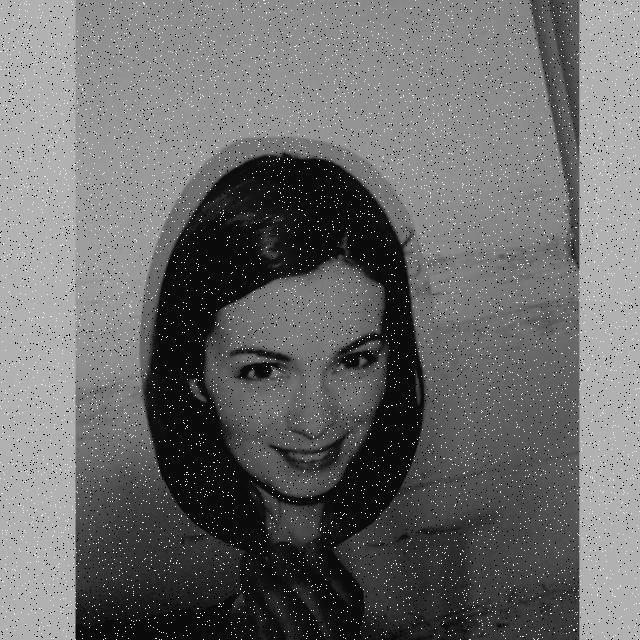fake: (130, 131, 434, 562)
